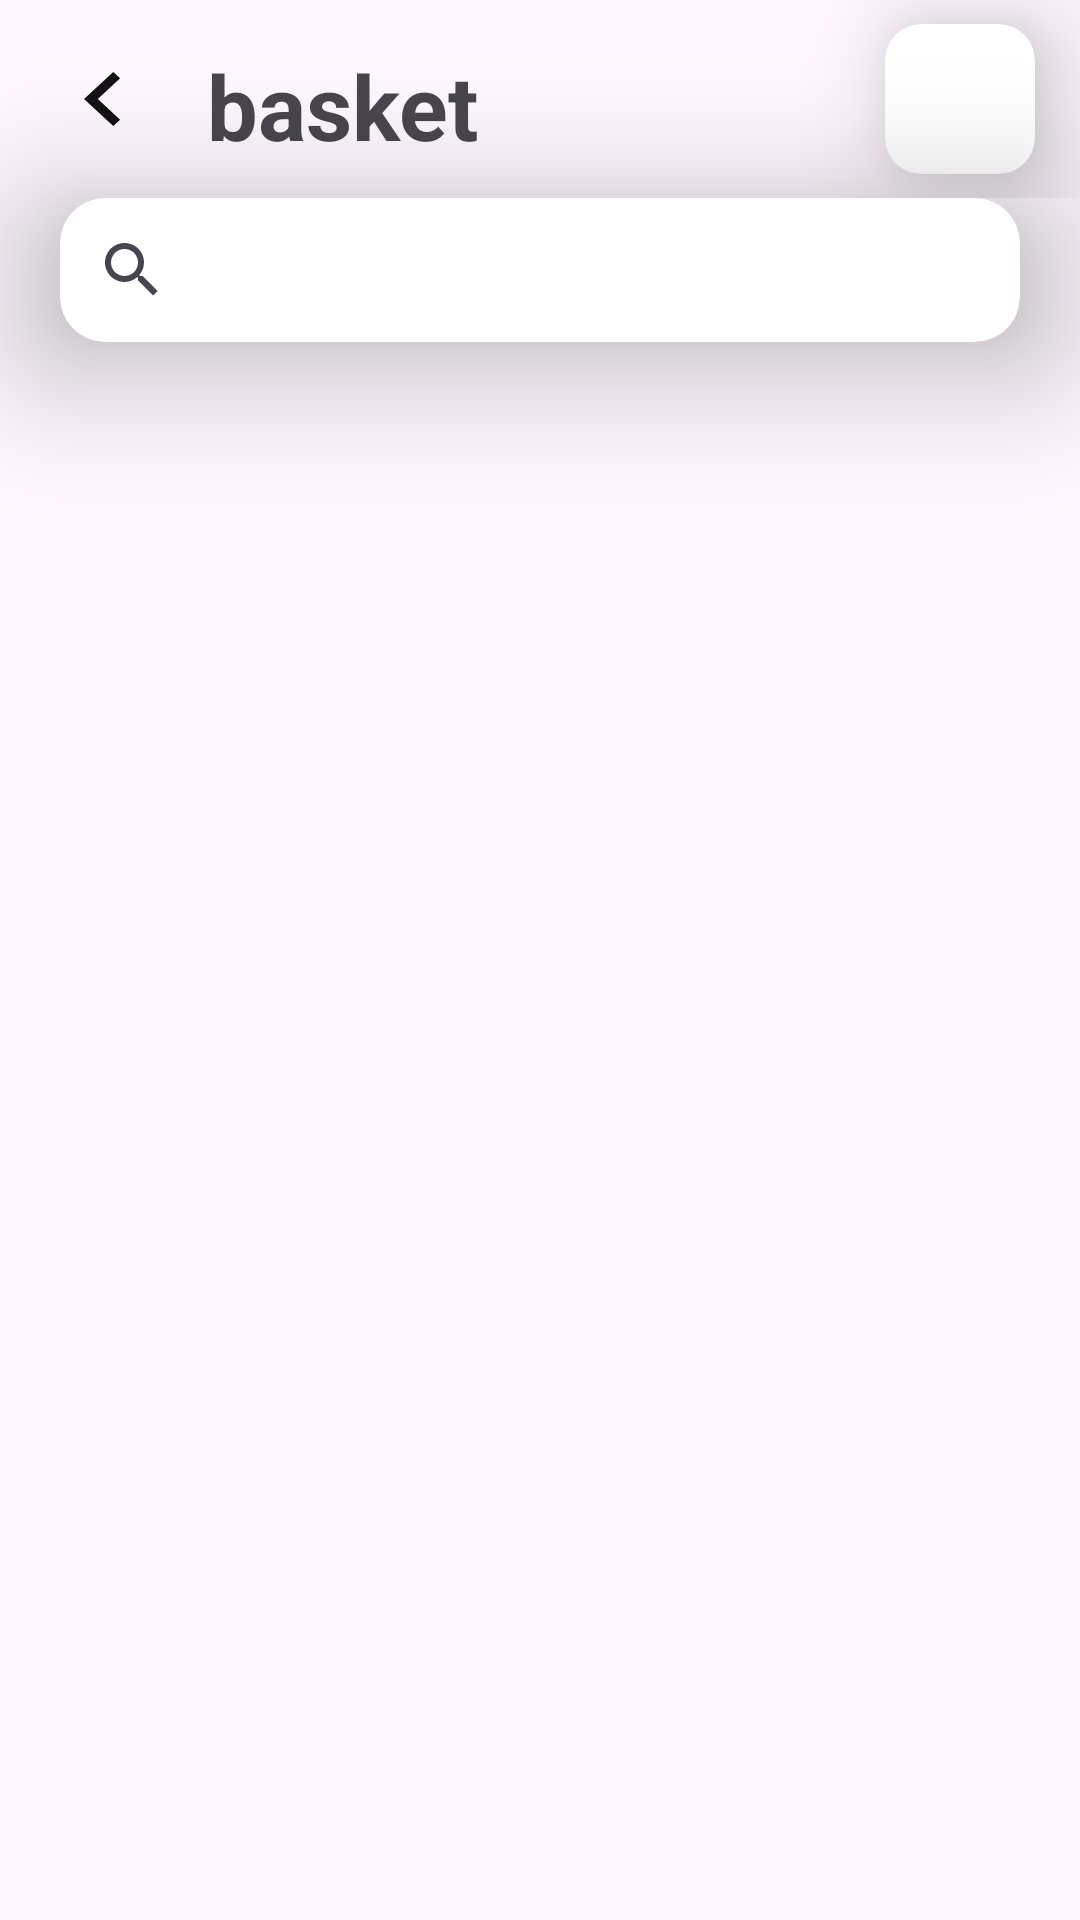

Where to tap for icons on this 1080px×1920px app screen, as [x,y]:
keyboard arrow left: [102,99]
